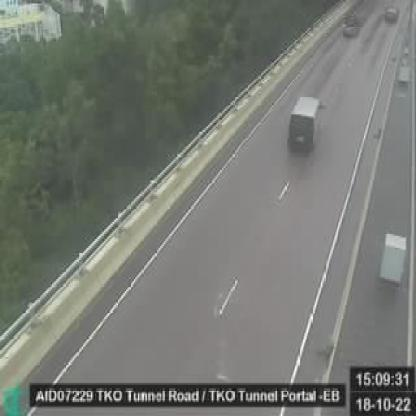Car: (342, 13, 362, 39), (384, 3, 401, 25)
Truck: (287, 95, 324, 156)
